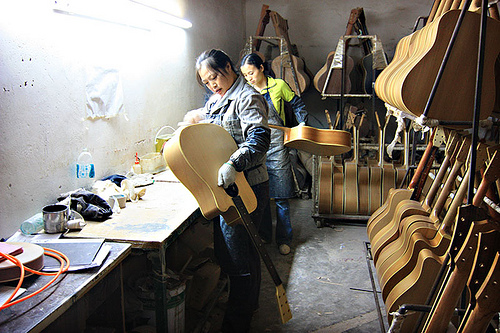guitar: (162, 123, 301, 325), (254, 120, 353, 159)
